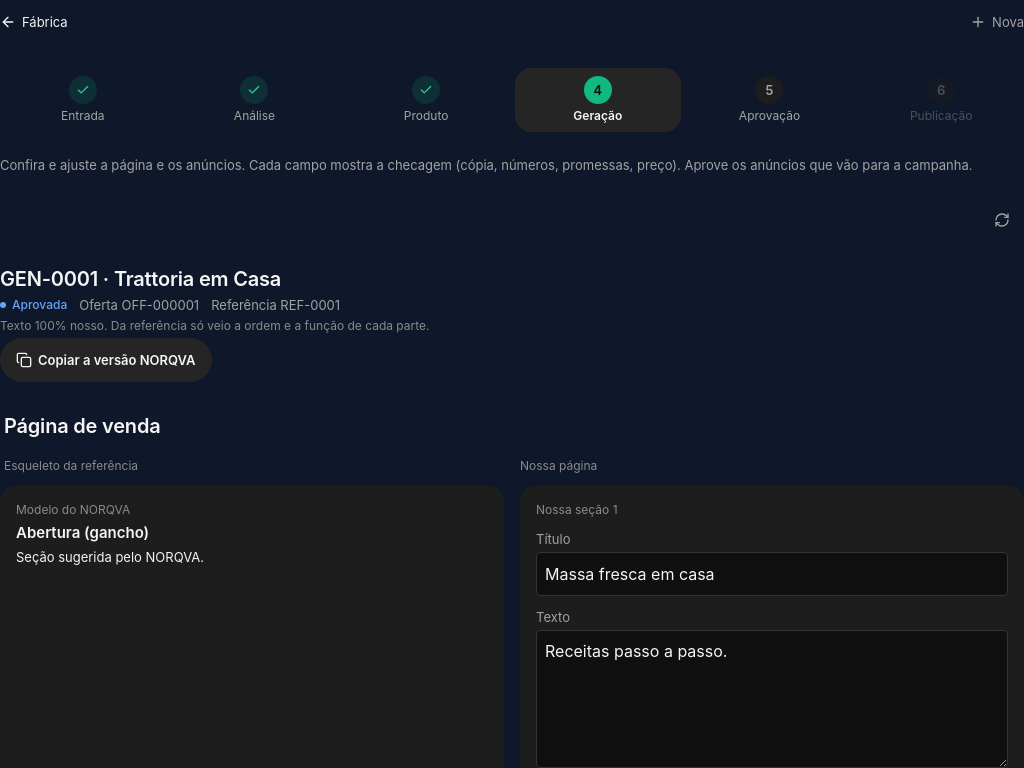
Scenario: NORQVA-0118 — revisão: travas e retomada › oferta sem PDF: "Pôr em teste" e "Publicar" ficam travados e o item explica
Click the button with test id "factory-step-5": [770, 100] box left=687, top=68, right=852, bottom=132
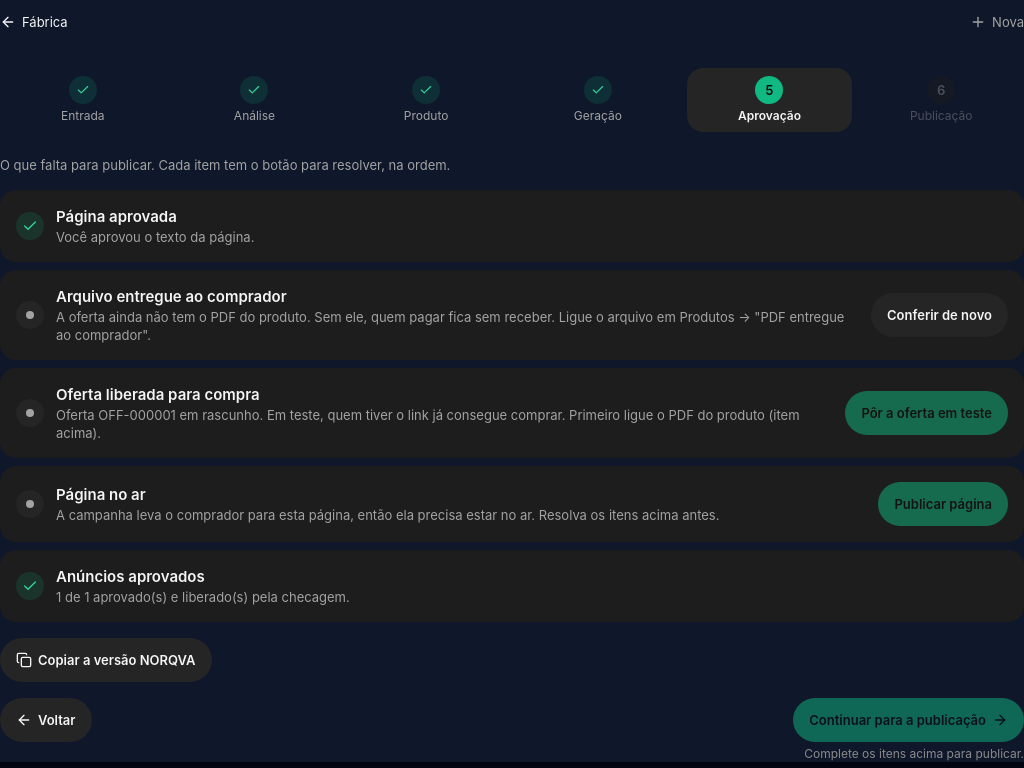
Result: the list item with test id "check-file" shows "PDF entregue ao comprador" at left=56, top=309, right=844, bottom=343
Result: the button with test id "offer-to-test" is disabled at left=845, top=391, right=1008, bottom=435
Result: the button "Publicar página" is disabled at left=878, top=482, right=1008, bottom=526
